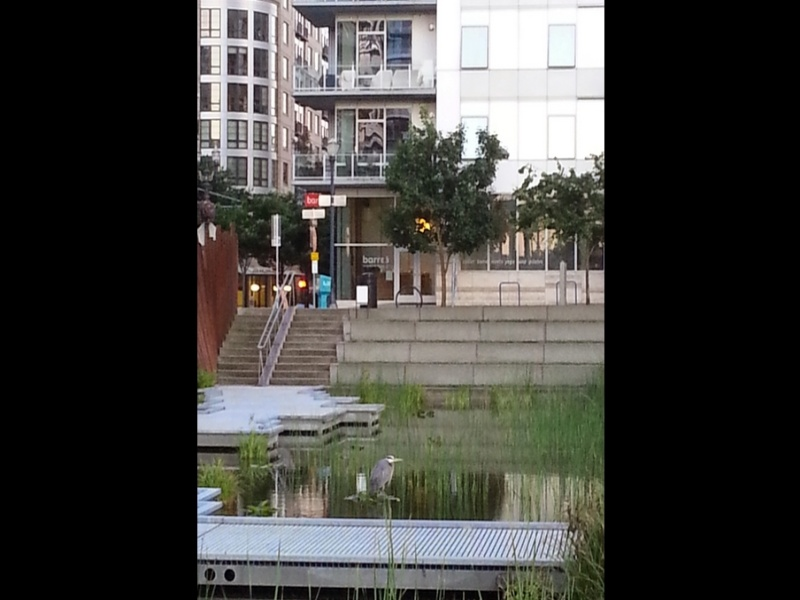heron: (370, 451, 408, 504)
